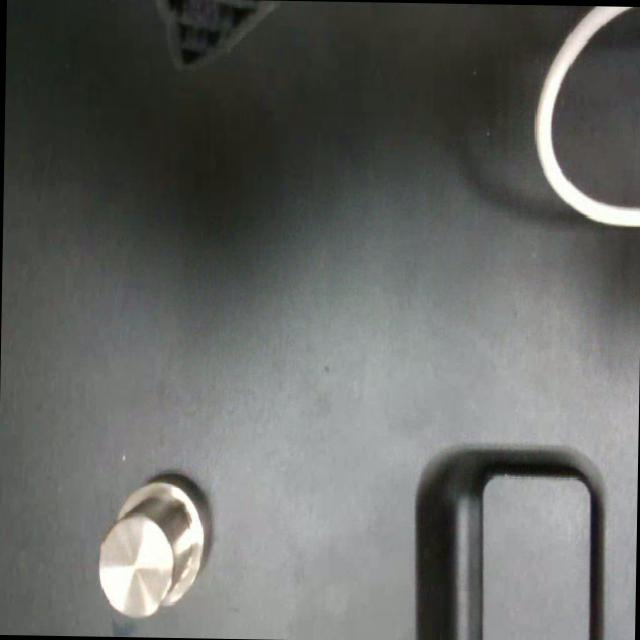sensor: (95, 471, 212, 617)
